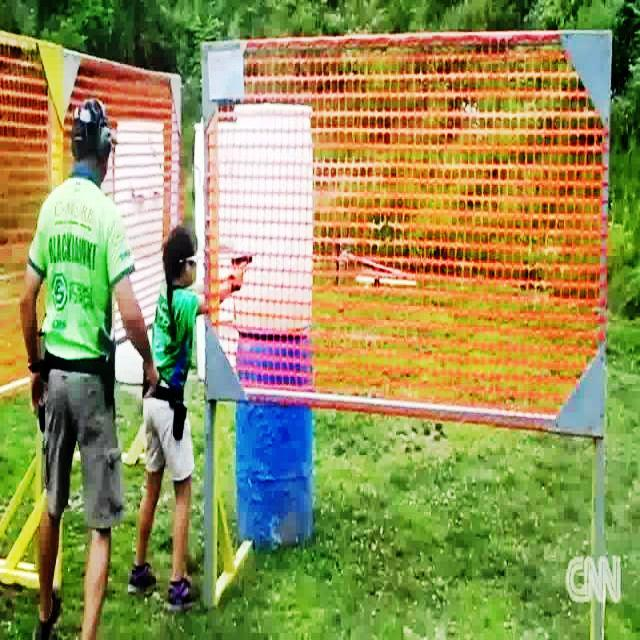Gun: (227, 243, 266, 299)
